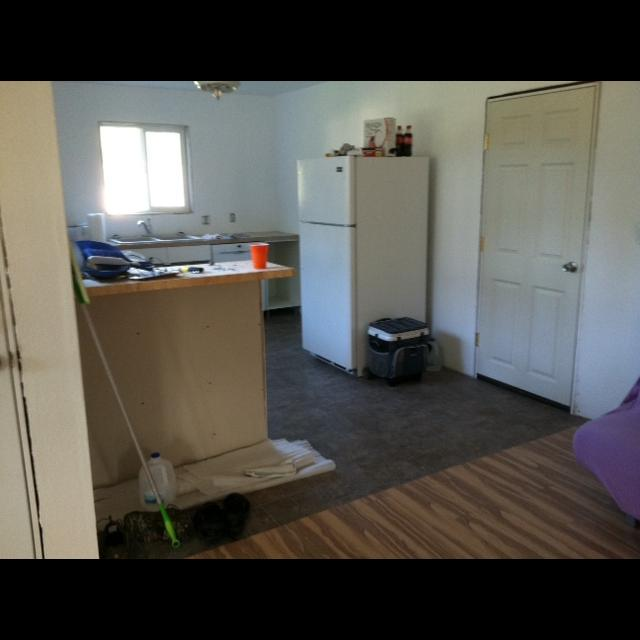Refrigerator: (295, 156, 429, 377)
